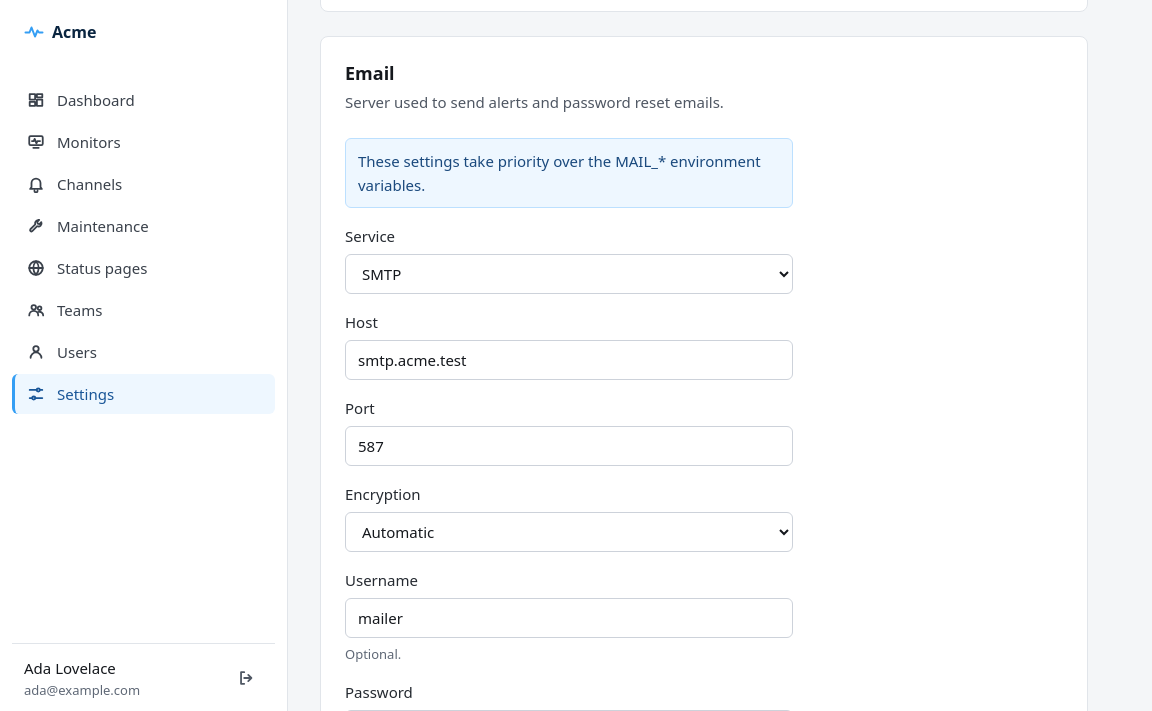
Test case: MailSection › saves smtp settings and keeps the stored password when left blank
(page scrolled)
Replace the text in the field labelled "Host" with "mail.acme.test": (569, 360) x1=345 y1=340 x2=793 y2=380
(page scrolled)
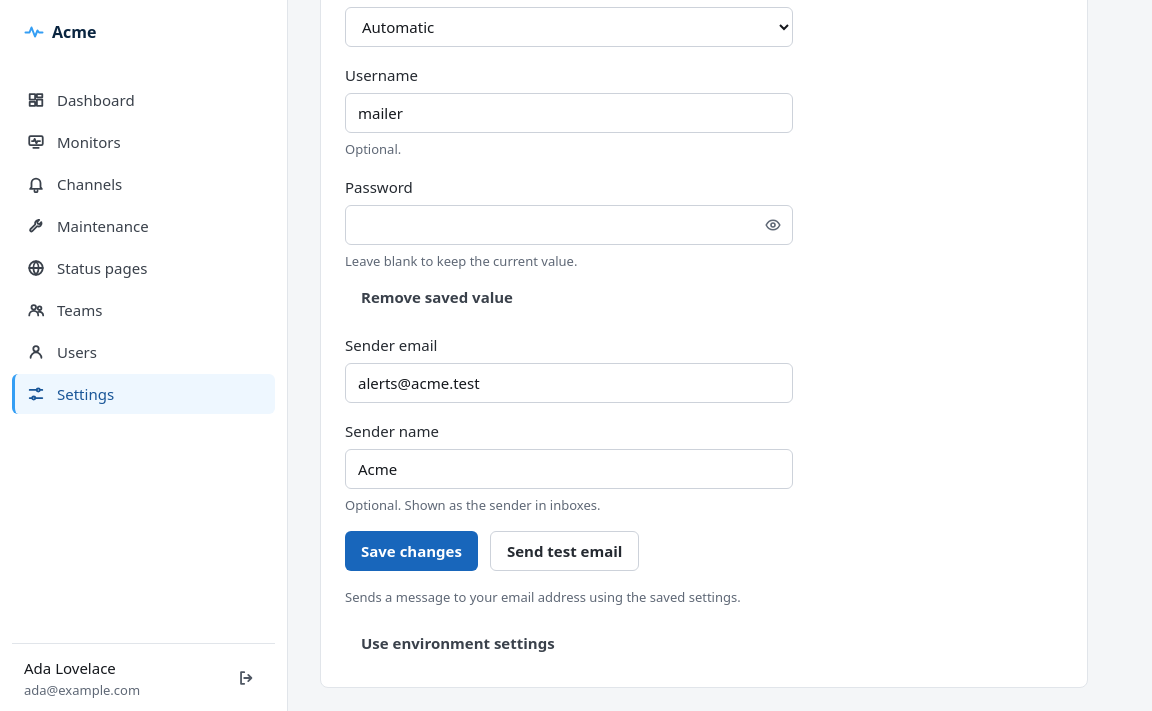
Click the button "Save changes": (411, 551) x1=345 y1=531 x2=478 y2=571
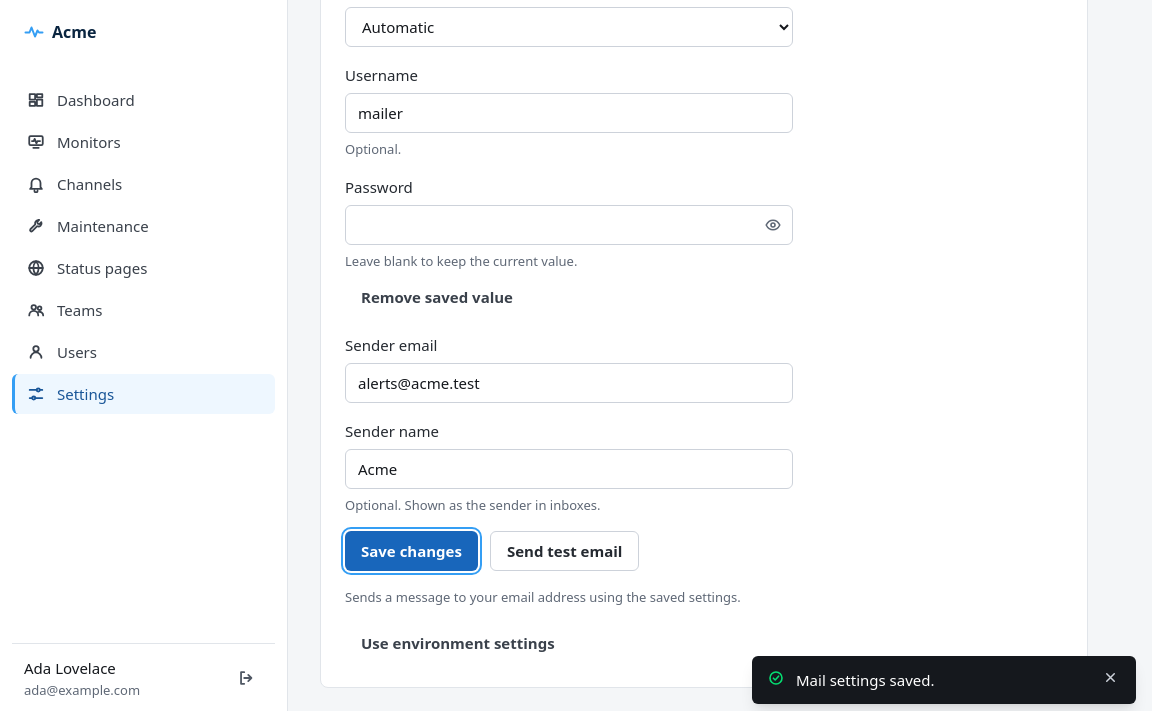
Expected: the text "Mail settings saved." is shown, x1=796 y1=670 x2=934 y2=690
